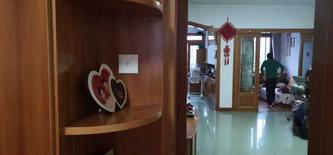switch: (120, 56, 141, 71)
